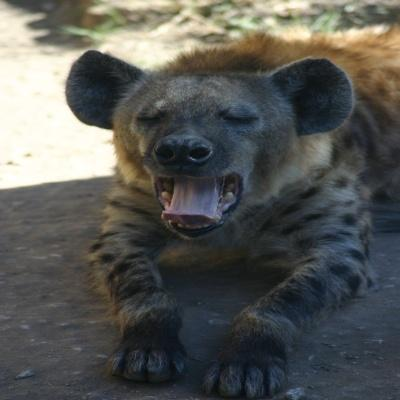hyenas: (40, 6, 400, 400)
